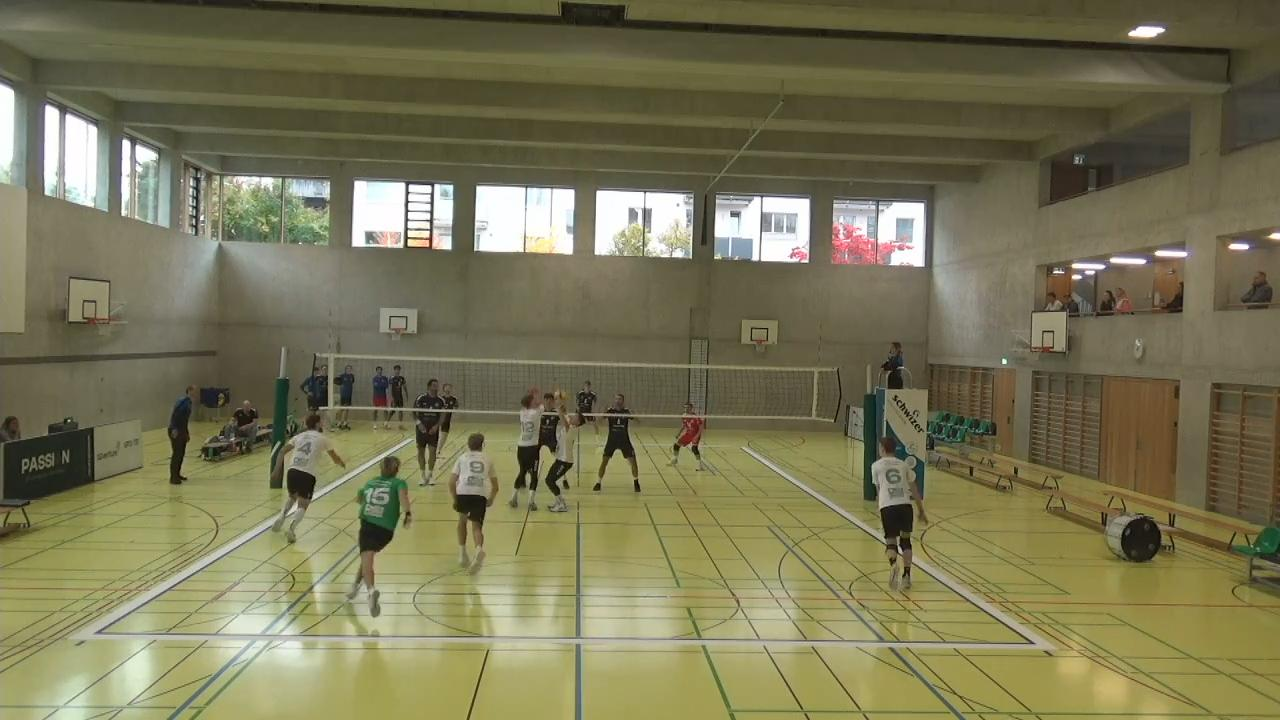alzata: (540, 395, 579, 512)
